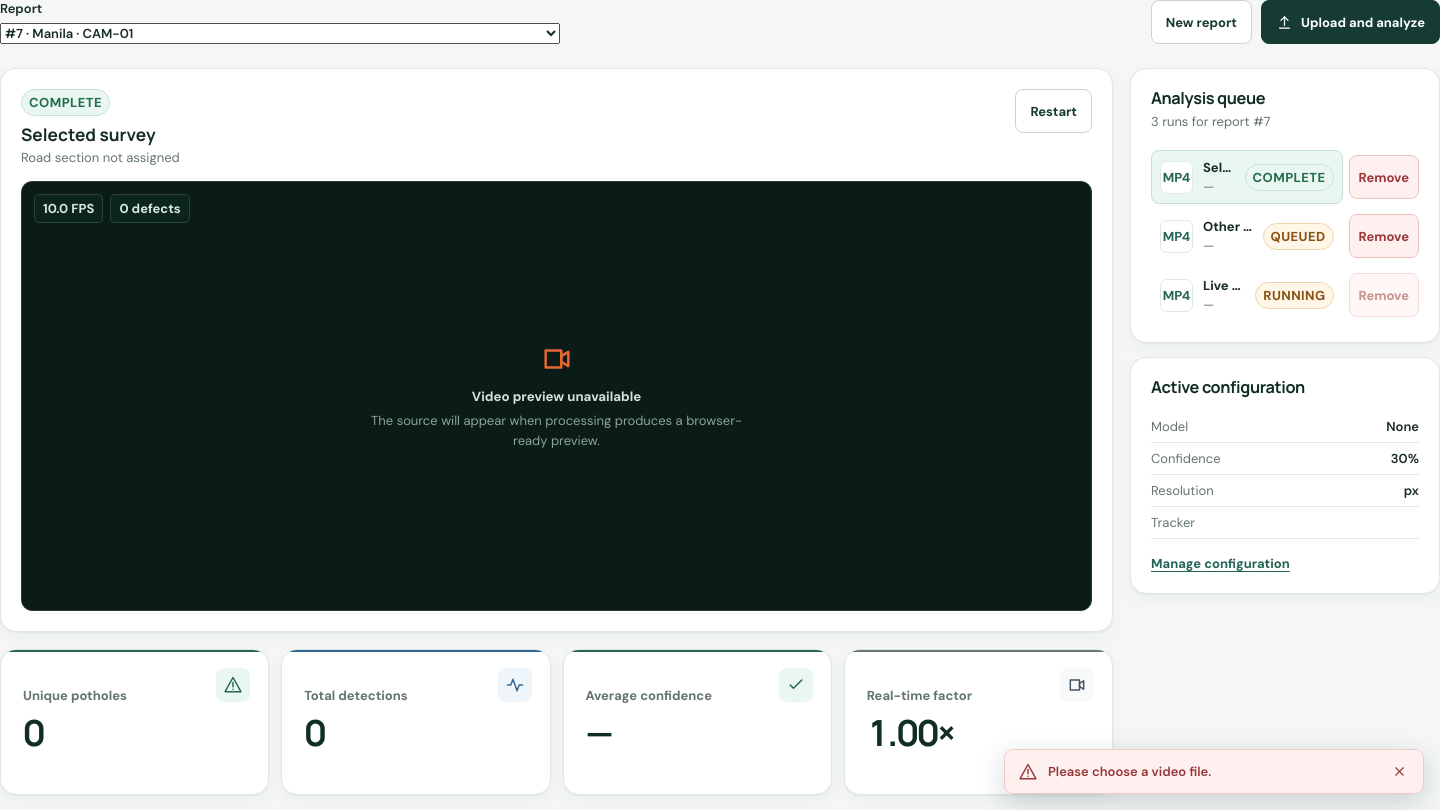
analysis notifications › keeps feedback inside the open upload dialog without a duplicate toast
Click the button "Upload and analyze" at (1350, 22), box x1=1261 y1=0 x2=1439 y2=44
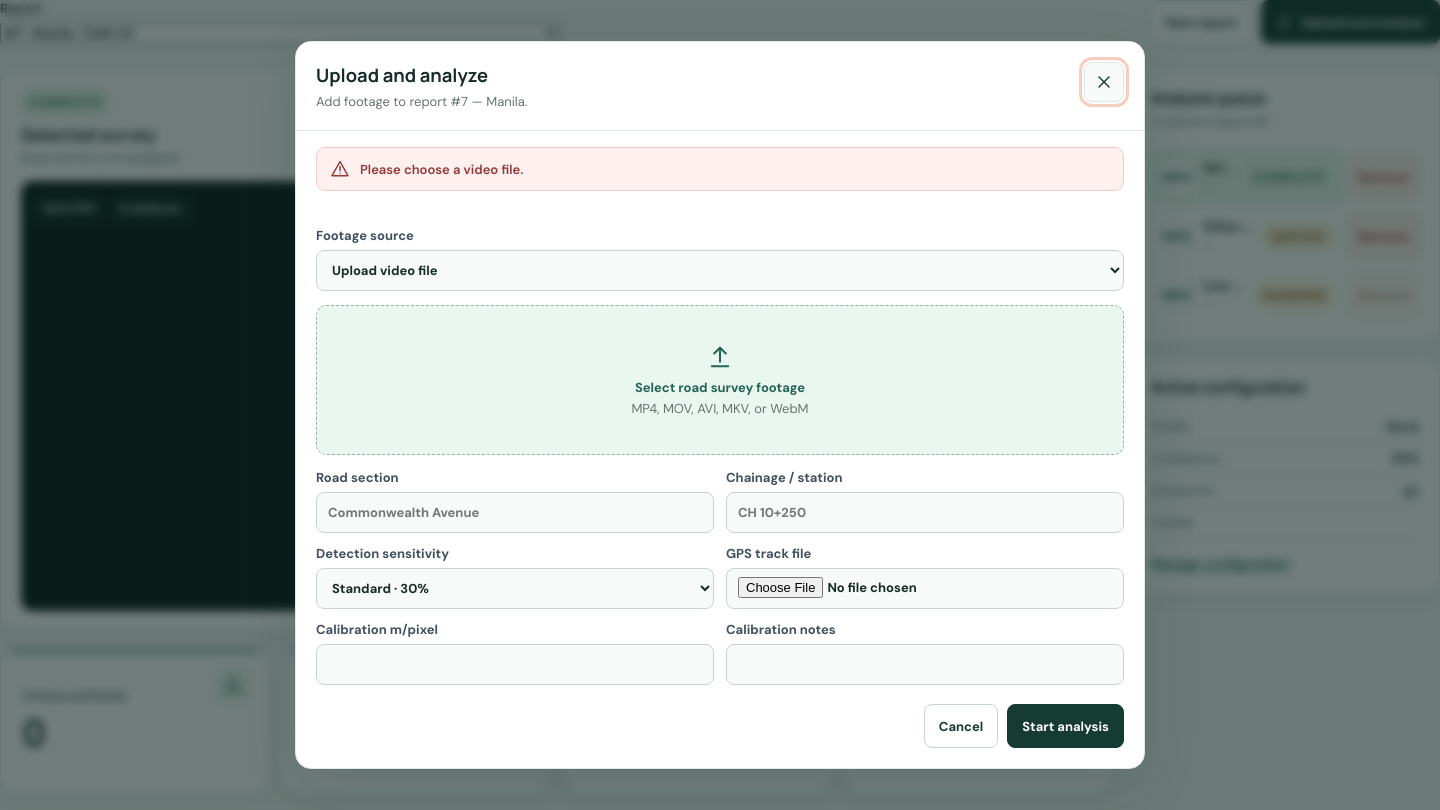
Expected: the text "Please choose a video file." is shown once, x1=360 y1=160 x2=523 y2=178
Expected: the dialog is shown, x1=295 y1=41 x2=1145 y2=769
Expected: the element with class "toast" is gone
